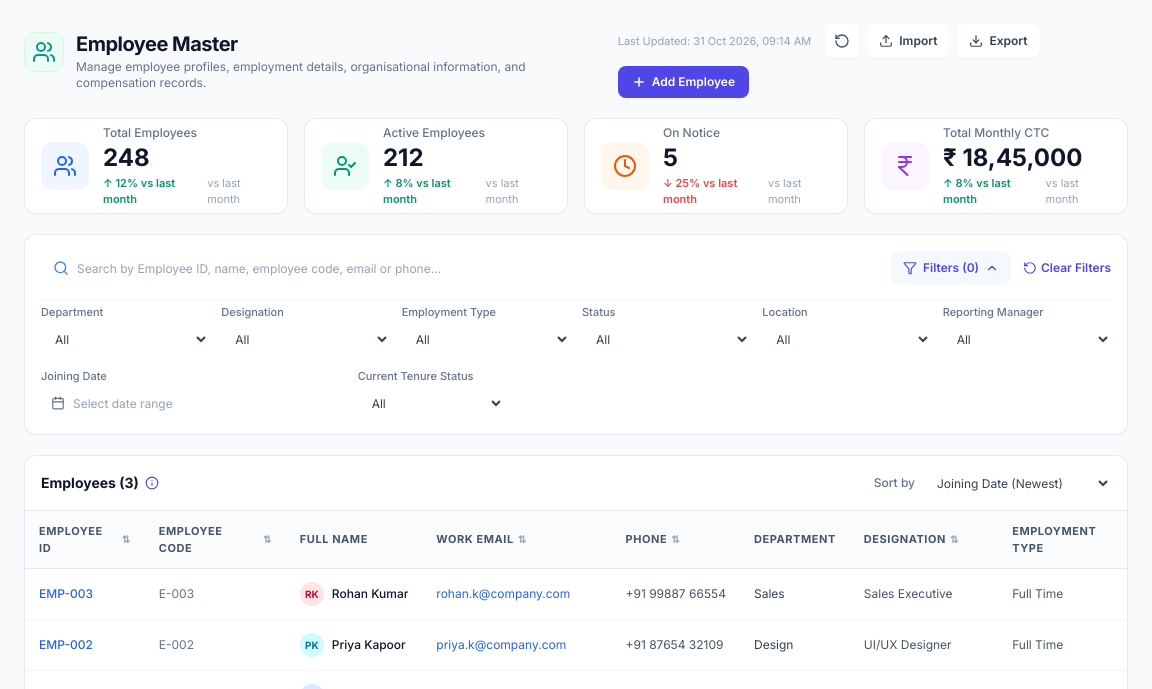
Test: EmployeeMasterPage Component › opens and closes Add Employee modal
Click the button "Add Employee". click: coordinates (683, 82)
box: [618,66,749,98]
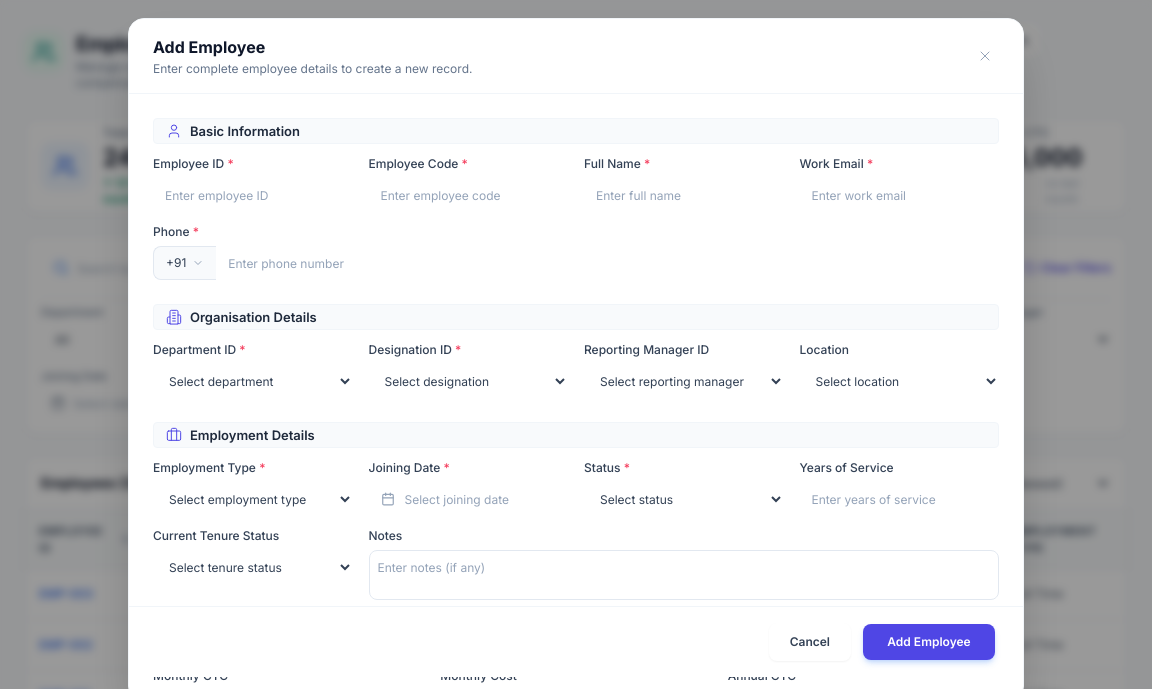
expect the text "Enter complete employee details to create a new record." is shown: met, box [153,61,472,77]
Click the button "Cancel". click: coordinates (810, 642)
box: [769,623,851,661]
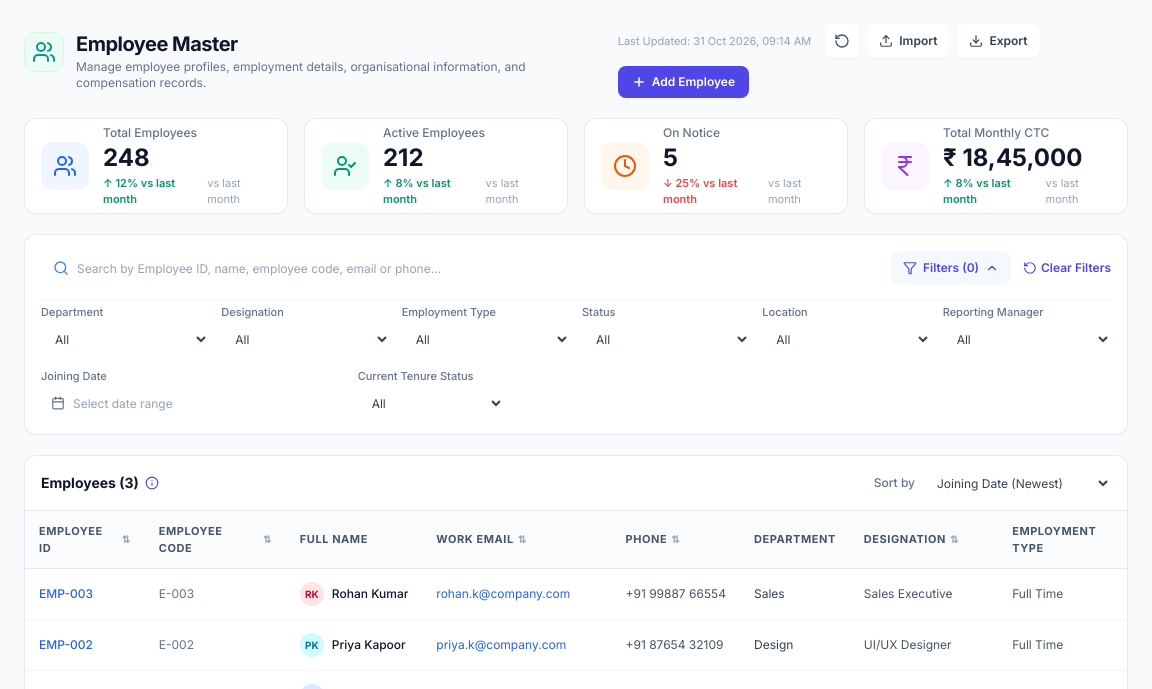
expect the text "Enter complete employee details to create a new record." is gone: met
